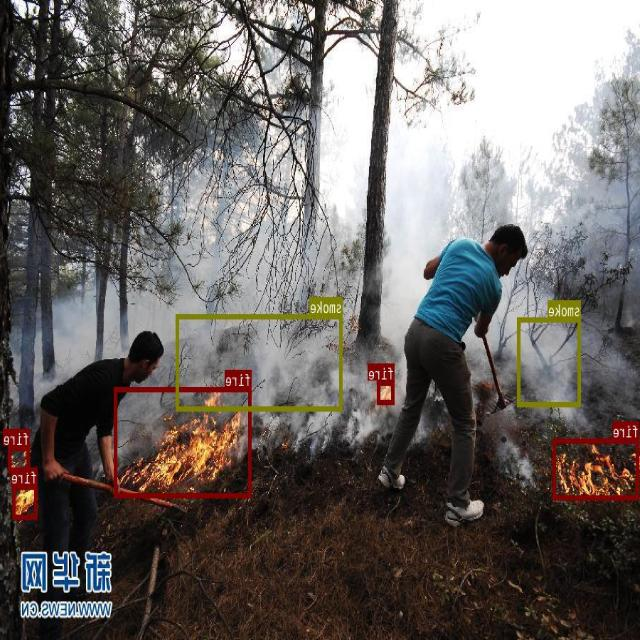fire: (115, 387, 252, 497), (554, 438, 640, 499), (13, 484, 38, 518), (9, 445, 30, 472), (378, 380, 395, 403)
smoke: (177, 313, 343, 410), (518, 316, 581, 406)
